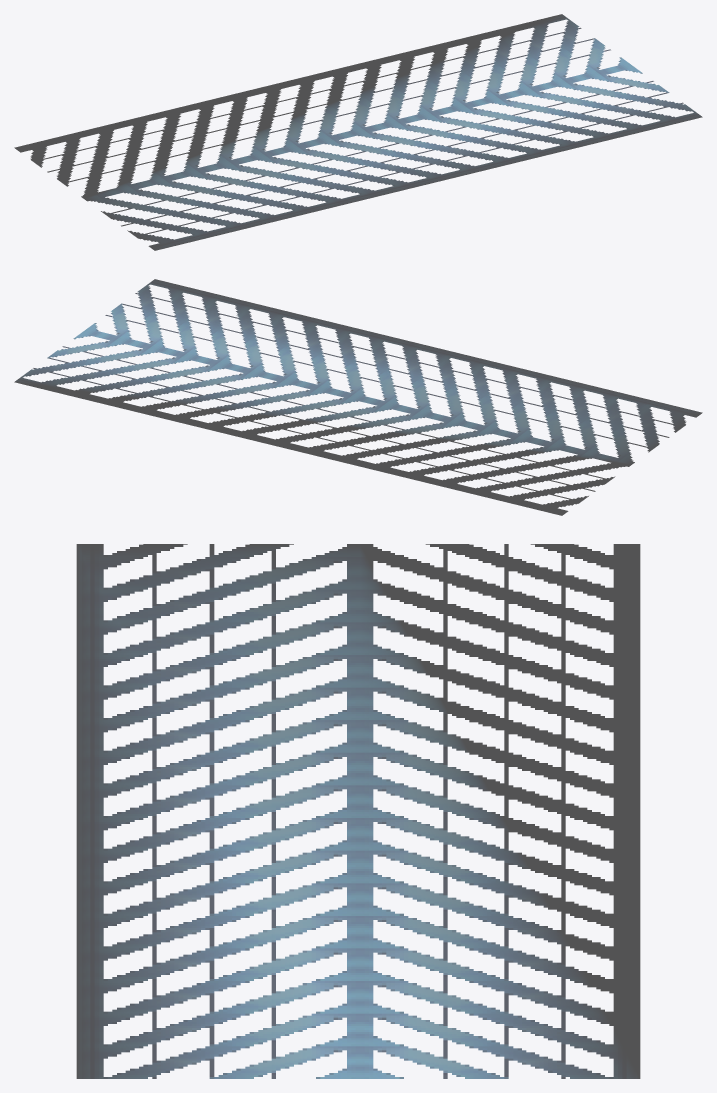
The model's file is PelagicIIExploration_Alpha_108.glb.
3 views of the same model, one above another, from view 1: azimuth 30°, elevation 25°; view 2: azimuth 150°, elevation 25°; view 3: azimuth 270°, elevation 25° (orthographic). The views are drawn at different scales.
Parts seen in each view (by area): view 1: PelagicIIExploration_Alpha_108; view 2: PelagicIIExploration_Alpha_108; view 3: PelagicIIExploration_Alpha_108.
Part boxes in pixels (x1,y1,x2,y2): PelagicIIExploration_Alpha_108: [14, 14, 702, 250]; PelagicIIExploration_Alpha_108: [14, 279, 702, 515]; PelagicIIExploration_Alpha_108: [76, 544, 640, 1078].
Size of the model in its own units: 46.88 by 4.88e-15 by 20.88.
Materials: 1 (1 with a texture image).
